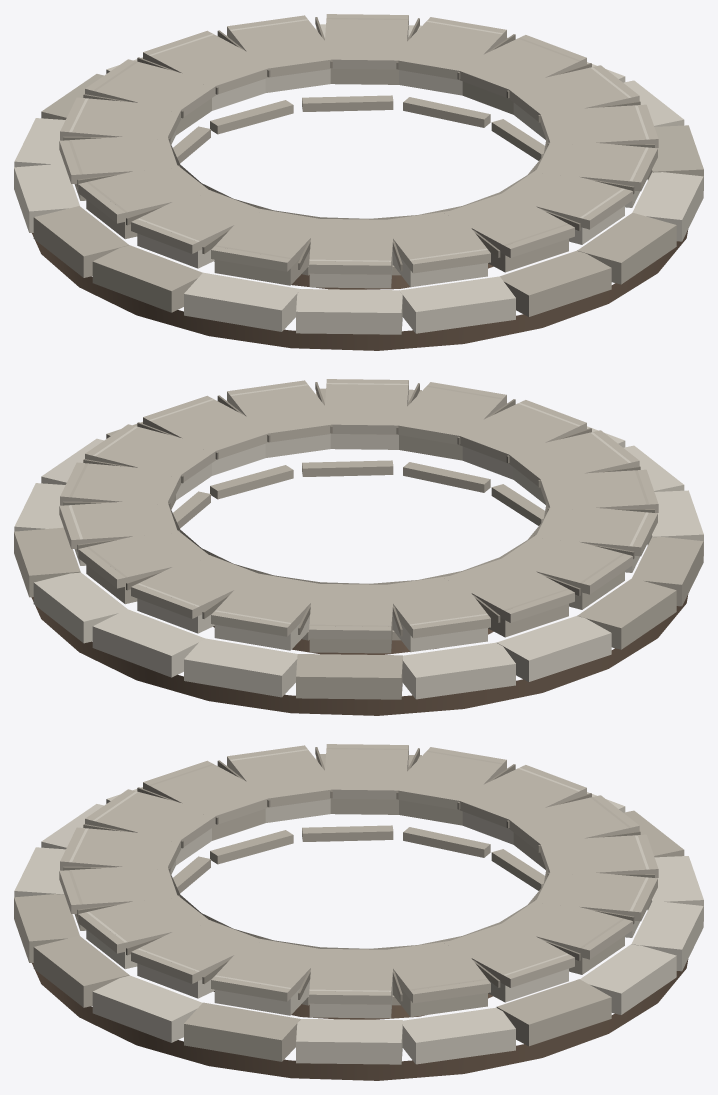
The model's file is south_indian_village_banyan_platform_katte.glb.
3 renders of one model, top to bottom at view 1: azimuth 30°, elevation 25°; view 2: azimuth 150°, elevation 25°; view 3: azimuth 270°, elevation 25°, orthographic.
Parts seen in each view (by area): view 1: Platform_Seating_Coping_Rim, Platform_Lower_Plinth_Step, Platform_Seating_Riser_Core, Platform_Subterranean_Foundation_Skirt, Tree_Opening_Inner_Retaining_Rim; view 2: Platform_Seating_Coping_Rim, Platform_Lower_Plinth_Step, Platform_Seating_Riser_Core, Platform_Subterranean_Foundation_Skirt, Tree_Opening_Inner_Retaining_Rim; view 3: Platform_Seating_Coping_Rim, Platform_Lower_Plinth_Step, Platform_Seating_Riser_Core, Platform_Subterranean_Foundation_Skirt, Tree_Opening_Inner_Retaining_Rim.
Part boxes in pixels (bbox=[...]): Platform_Seating_Coping_Rim: bbox=[59, 14, 658, 274]; Platform_Lower_Plinth_Step: bbox=[14, 24, 703, 334]; Platform_Seating_Riser_Core: bbox=[68, 18, 648, 288]; Platform_Subterranean_Foundation_Skirt: bbox=[32, 229, 688, 350]; Tree_Opening_Inner_Retaining_Rim: bbox=[170, 95, 547, 275]; Platform_Seating_Coping_Rim: bbox=[59, 379, 658, 639]; Platform_Lower_Plinth_Step: bbox=[14, 388, 703, 699]; Platform_Seating_Riser_Core: bbox=[68, 383, 648, 653]; Platform_Subterranean_Foundation_Skirt: bbox=[31, 594, 688, 715]; Tree_Opening_Inner_Retaining_Rim: bbox=[170, 460, 547, 640]; Platform_Seating_Coping_Rim: bbox=[59, 744, 658, 1004]; Platform_Lower_Plinth_Step: bbox=[14, 754, 703, 1064]; Platform_Seating_Riser_Core: bbox=[68, 748, 648, 1018]; Platform_Subterranean_Foundation_Skirt: bbox=[32, 959, 688, 1080]; Tree_Opening_Inner_Retaining_Rim: bbox=[170, 825, 547, 1005].
Size of the model in its own units: 5.82 by 0.66 by 5.86.
